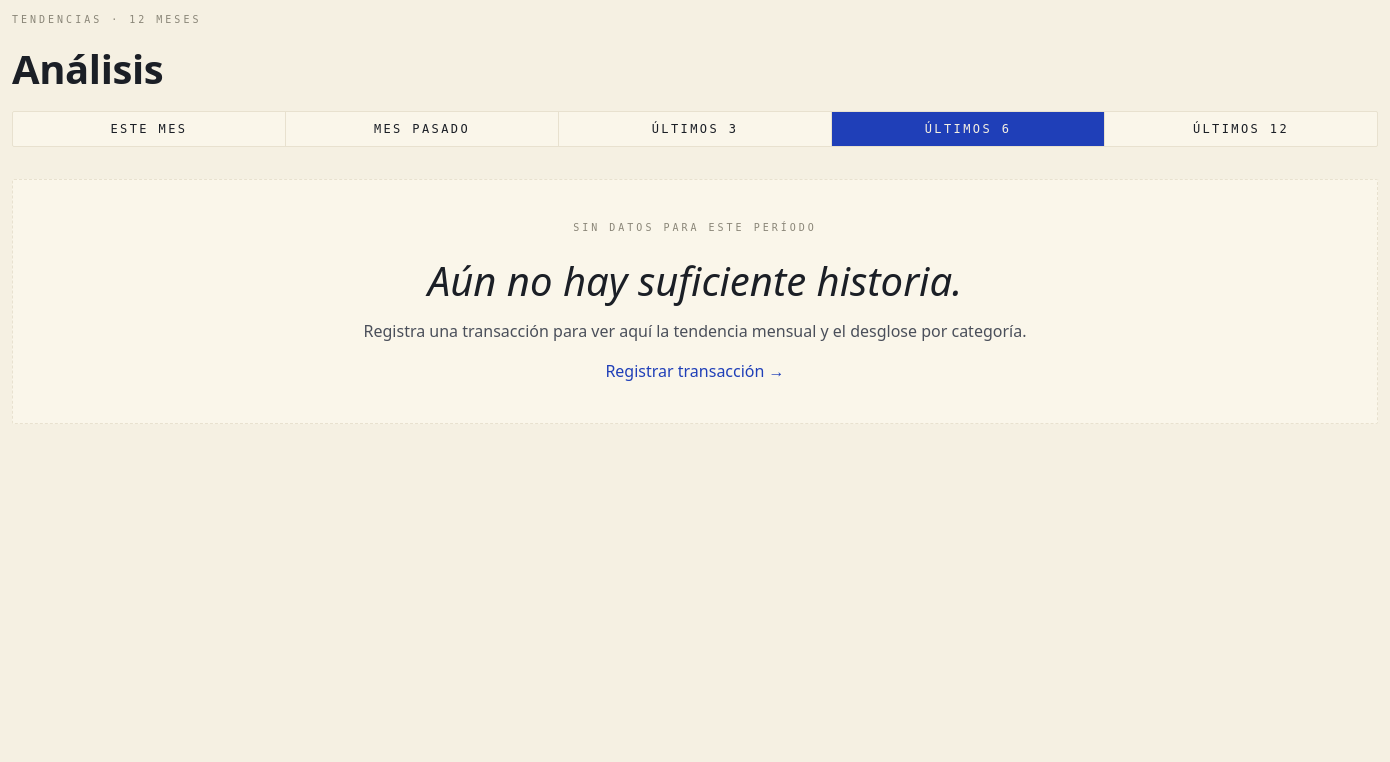
InsightsPage — totals parity with Dashboard (REL-001) › switching from this_month to last_12 expands the sparkline caption from 1 to 12 months
Click the button with test id "period-this_month" at (149, 129), box [13,112,285,146]
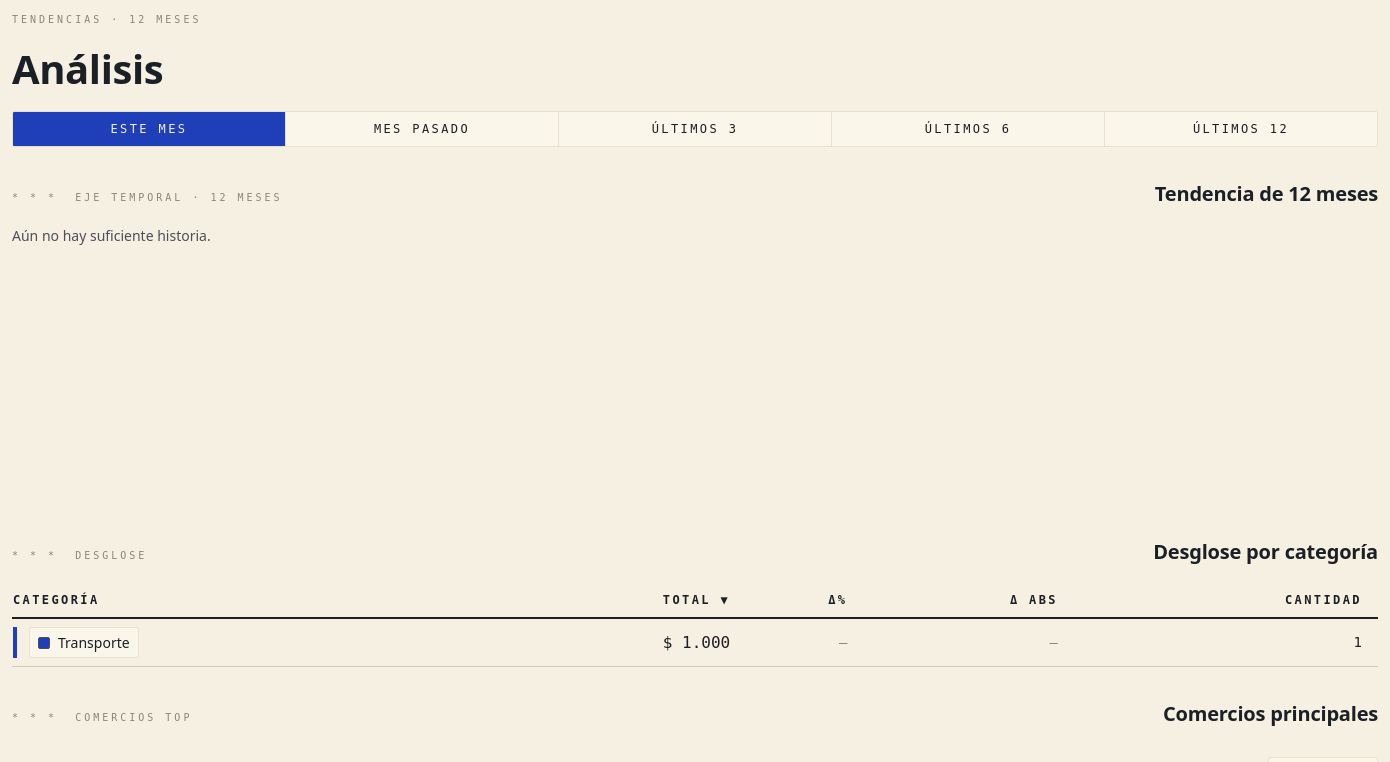
Expected: the text "Aún no hay suficiente historia." is shown, [12,226,211,245]
Click the button with test id "period-last_12" at (1241, 129), box [1105,112,1377,146]
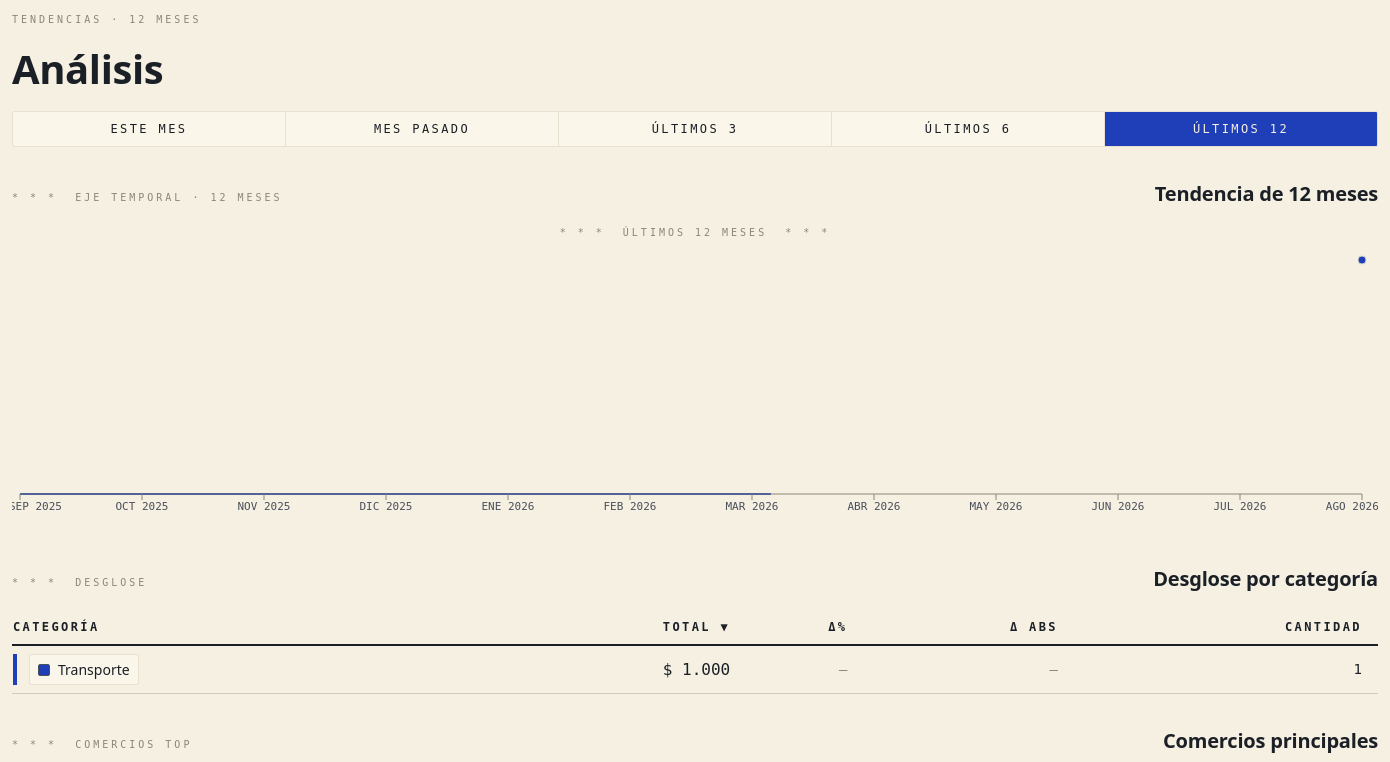
Result: the text with test id "sparkline-caption" shows "ÚLTIMOS 12 MESES" at [560,227,830,238]
